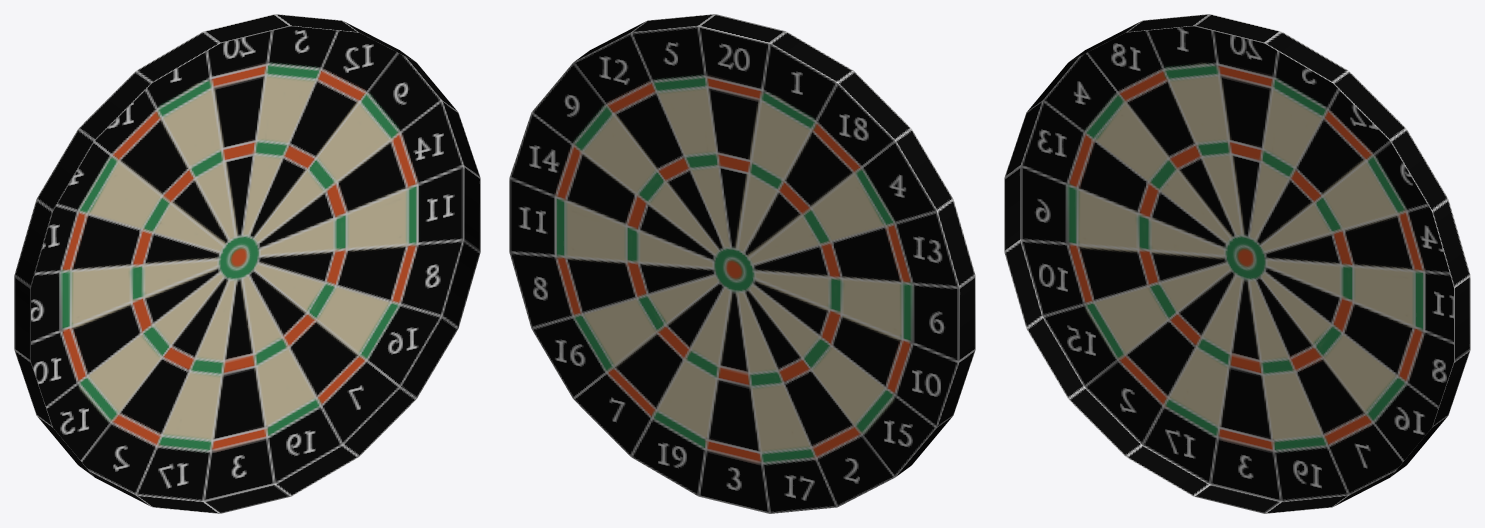
The model's file is Dart Board.fbx.
3 views of the same model, side by side, from view 1: azimuth 30°, elevation 25°; view 2: azimuth 150°, elevation 25°; view 3: azimuth 330°, elevation 25° (orthographic).
Parts seen in each view (by area): view 1: polySurface2; view 2: polySurface2; view 3: polySurface2.
Part boxes in pixels (box(x1,y1,x2,y2)): polySurface2: box(14, 14, 480, 513); polySurface2: box(509, 14, 975, 513); polySurface2: box(1004, 14, 1470, 513).
Size of the model in its own units: 0.0336 by 0.0336 by 0.00216.
